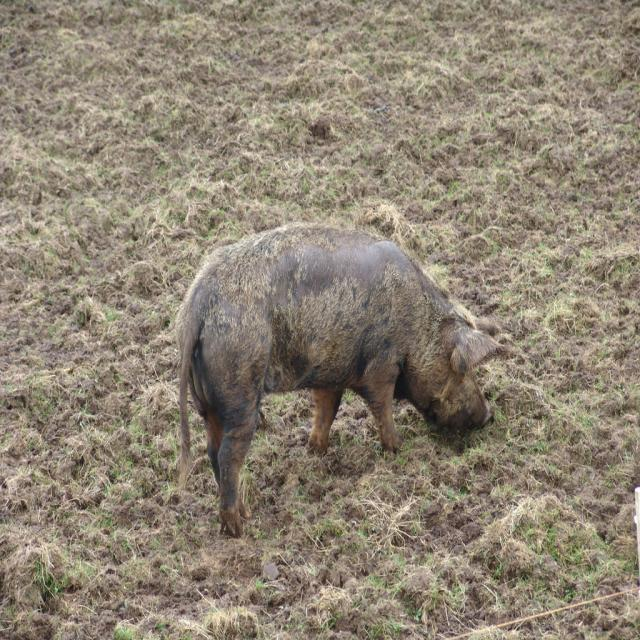Pig: (174, 217, 505, 539)
